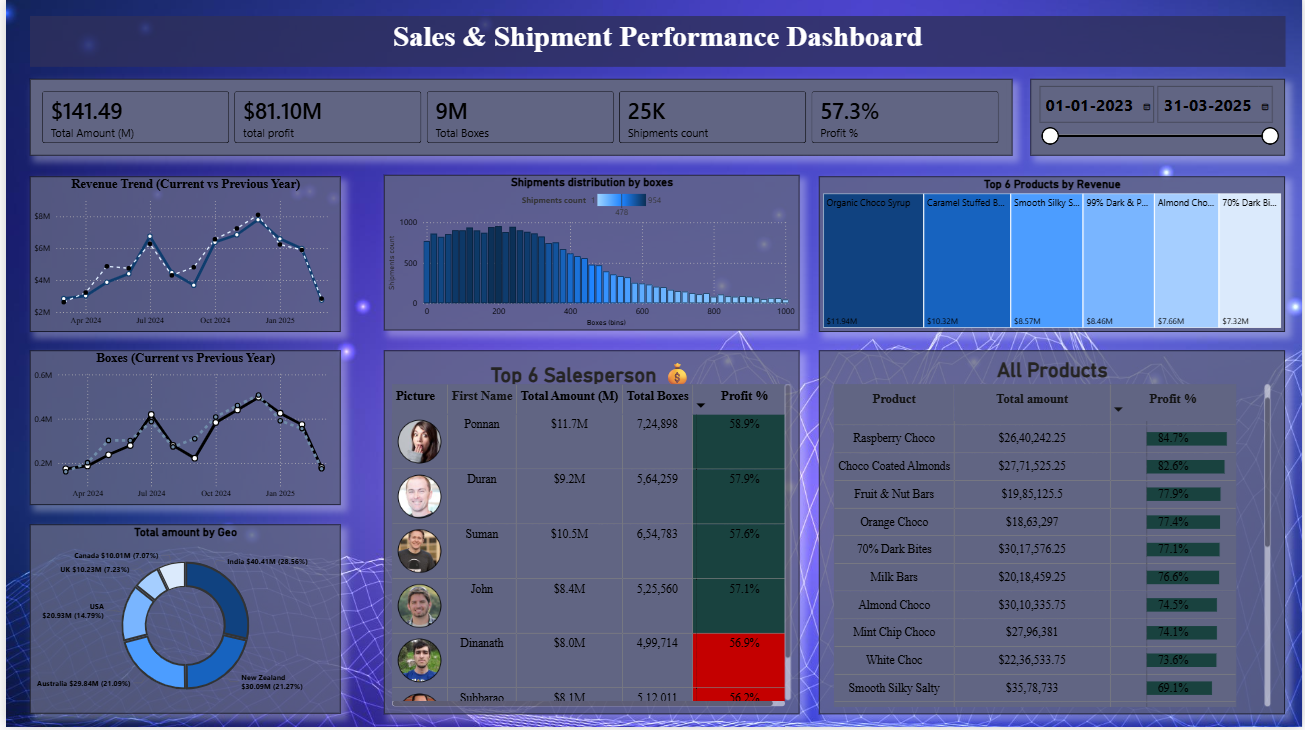

What the dashboard file says about the page in this screenshot:
{"tool":"powerbi","page":{"name":"Page 1","canvas":[1920,1080],"ordinal":0},"visuals":[{"type":"lineChart","title":"Revenue Trend (Current vs Previous Year)","fields":{"Category":["calendar.Start of Month"],"Y":["shipments.Total amount","shipments.Total Amount ( last year )"]},"box":[35,263.3,460,230],"z":0},{"type":"lineChart","title":"Boxes (Current vs Previous Year)","fields":{"Category":["calendar.Start of Month"],"Y":["shipments.total boxes","shipments.Total Boxes ( last year )"]},"box":[35,521.7,460,228.3],"z":1000},{"type":"donutChart","fields":{"Category":["locations.Geo"],"Y":["shipments.Total amount"]},"box":[35,780,460,280],"z":2000},{"type":"columnChart","title":"Shipments distribution by boxes","fields":{"Category":["shipments.Boxes (bins)"],"Y":["shipments.Shipments count"]},"box":[560,262.5,615,230],"z":3000},{"type":"tableEx","title":"Top 6 Salesperson 💰","fields":{"Values":["people.Picture","people.first name","shipments.Total Amount (M)","shipments.total boxes","shipments.Profit %"]},"box":[560,521.7,615,538.3],"z":4000},{"type":"treemap","title":"Top 6 Products by Revenue","fields":{"Values":["shipments.Total amount"],"Group":["products.Product"]},"box":[1205,263.3,690,230],"z":5000},{"type":"tableEx","title":"All Products","fields":{"Values":["products.Product","shipments.Total amount","shipments.Profit %"]},"box":[1205,521.7,690,538.3],"z":6000},{"type":"cardVisual","fields":{"Data":["shipments.Total Amount (M)","shipments.total profit","shipments.Total Boxes","shipments.Shipments count","shipments.Profit %"]},"box":[35,120,1455,113.3],"z":7000},{"type":"slicer","fields":{"Values":["calendar.cal_date"]},"box":[1518.3,120,376.7,113.3],"z":8000},{"type":"textbox","box":[35,27.5,1860,75],"z":9000}]}

Visuals, with their boxes in screenshot pixels (x1, y1, x2, y2), scaled from the page's 1920x1080 canvas onto the 1305x730 screenshot:
"Revenue Trend (Current vs Previous Year)" lineChart: 24/178/336/333
"Boxes (Current vs Previous Year)" lineChart: 24/353/336/507
donutChart - locations.Geo x shipments.Total amount: 24/527/336/716
"Shipments distribution by boxes" columnChart: 381/177/799/333
"Top 6 Salesperson 💰" tableEx: 381/353/799/716
"Top 6 Products by Revenue" treemap: 819/178/1288/333
"All Products" tableEx: 819/353/1288/716
cardVisual - shipments.Total Amount (M) x shipments.total profit: 24/81/1013/158
slicer - calendar.cal_date: 1032/81/1288/158
textbox: 24/19/1288/69
